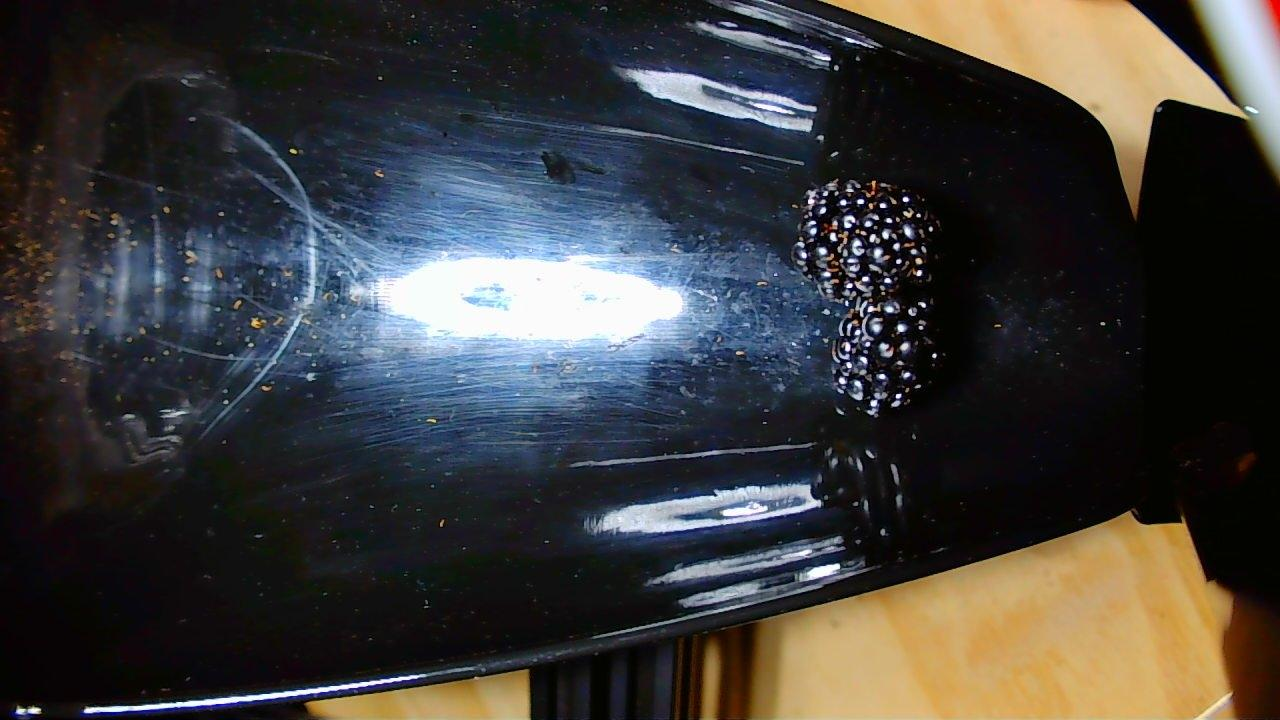berry: (800, 176, 936, 294), (822, 282, 934, 420)
